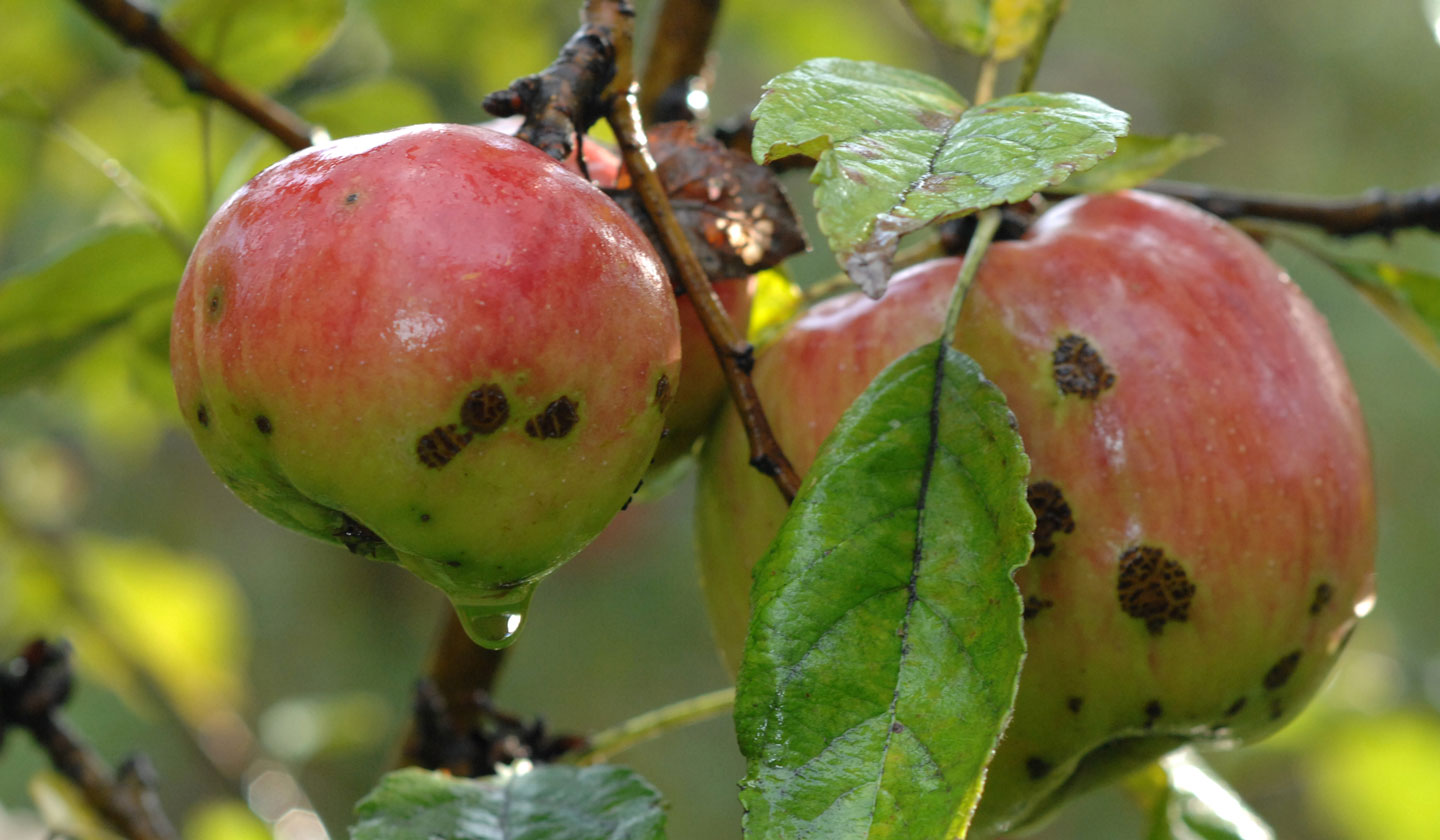defect: (363, 342, 623, 489), (1023, 462, 1202, 642), (1255, 577, 1341, 701), (1037, 321, 1133, 401)
